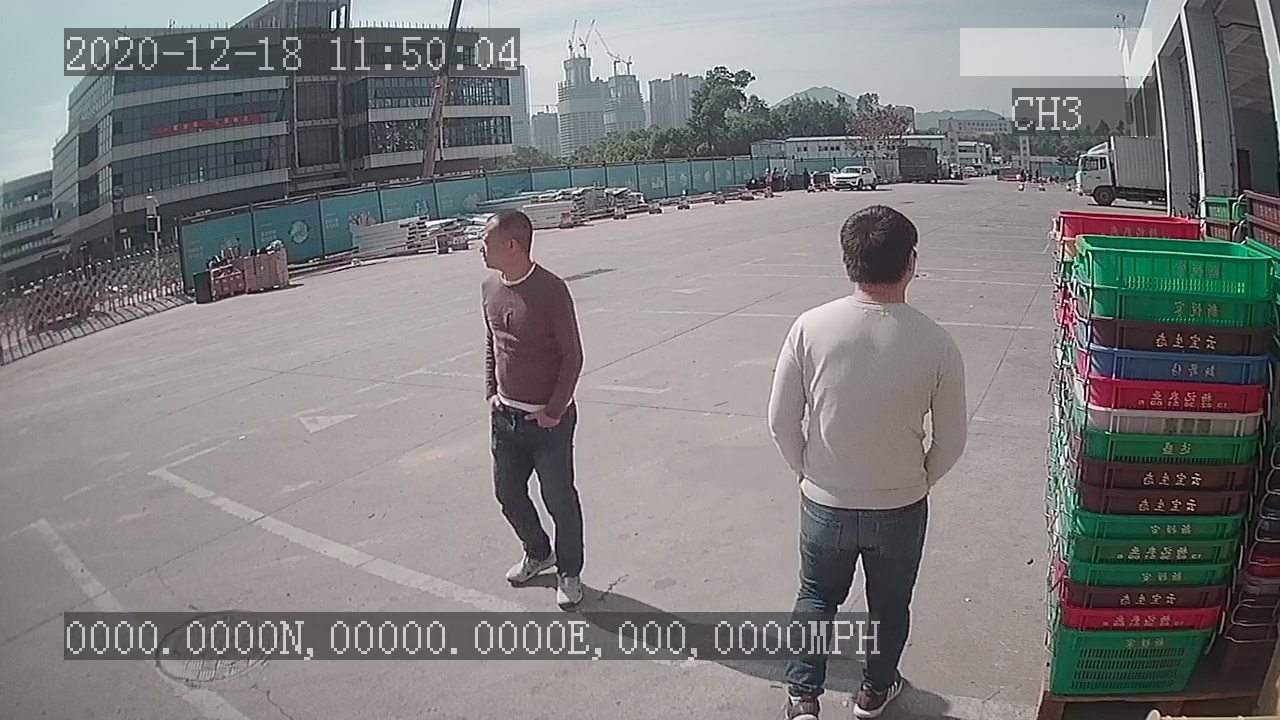person: (476, 206, 592, 610)
